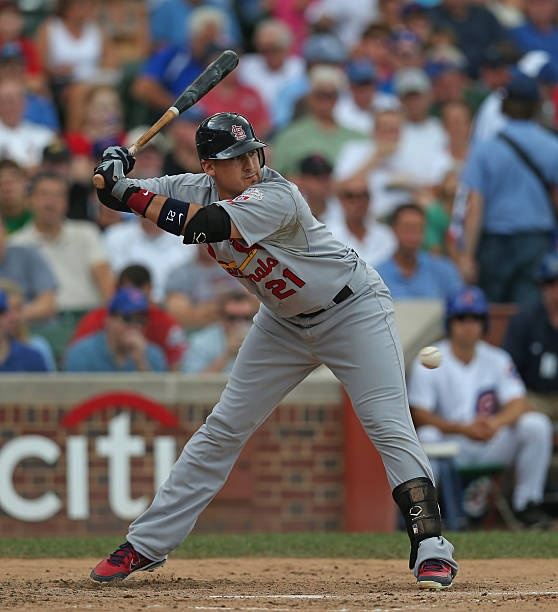bita: (98, 45, 244, 184)
